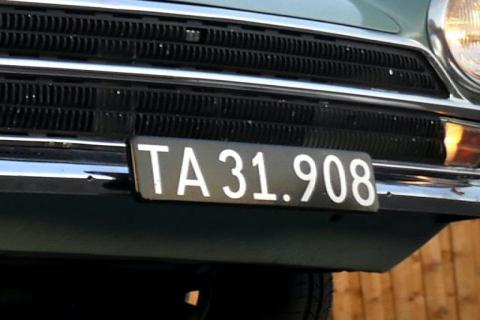LicensePlate: (125, 132, 388, 220)
